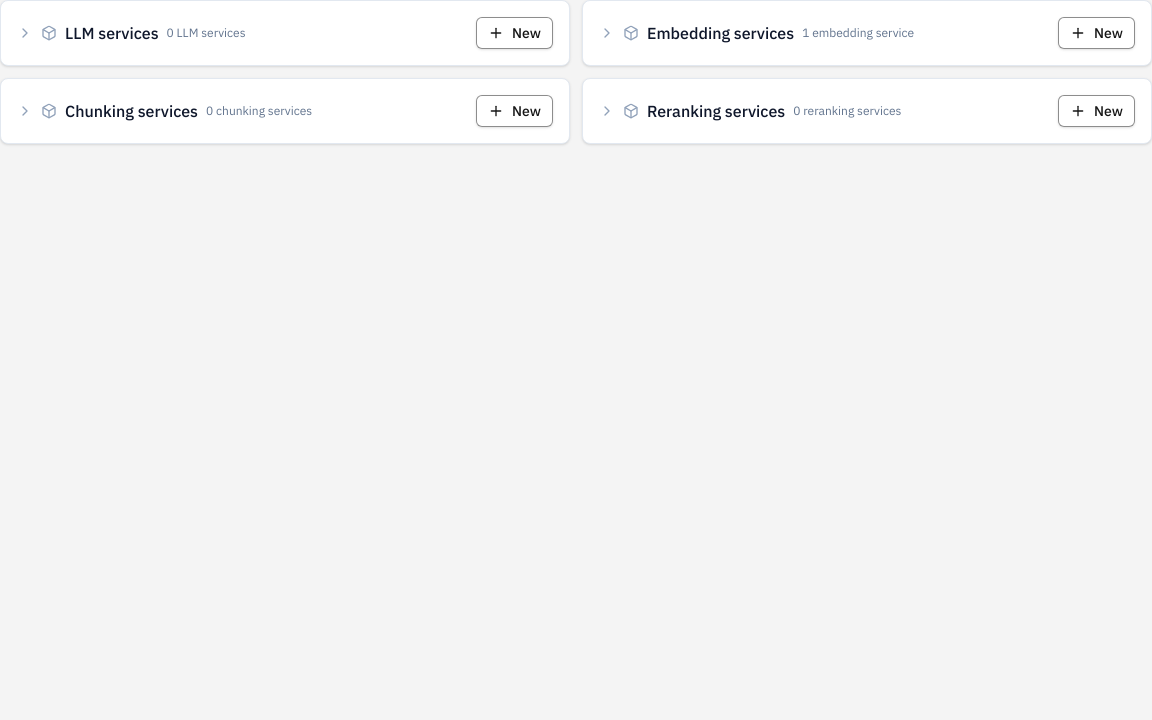
it: ServicesPanel › opens the embedding edit dialog from a service row
Click the button named "Embedding services". click: [867, 33]
box: [583,1,1151,65]
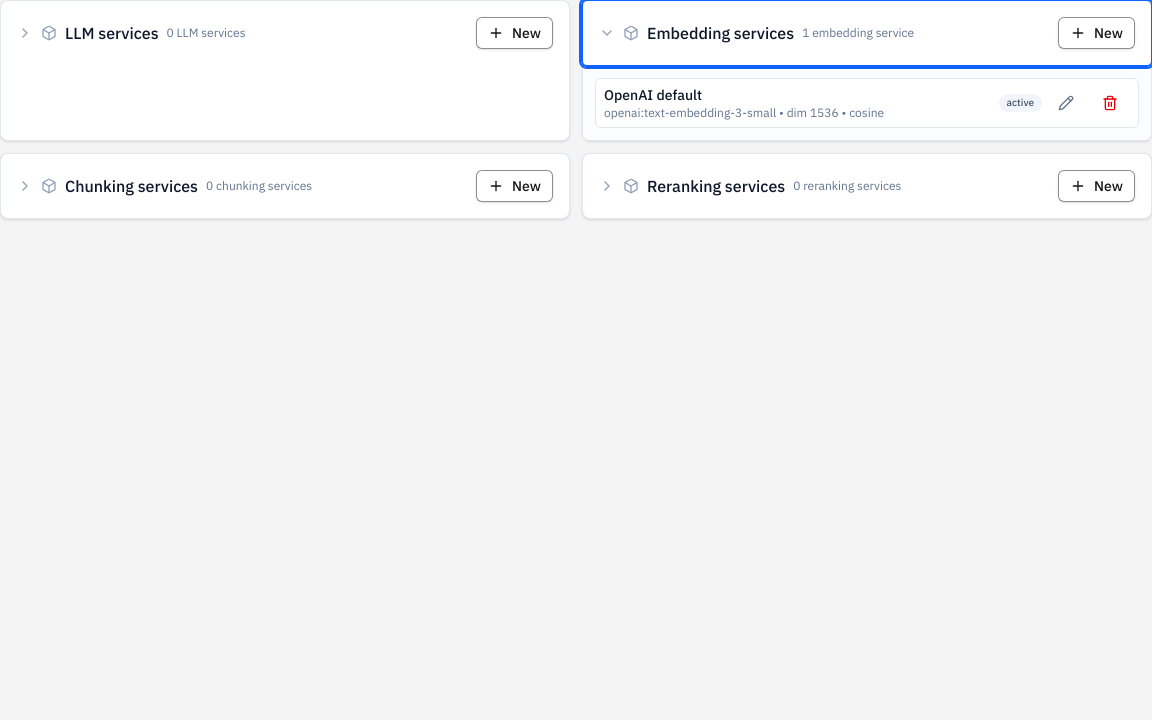
Click the button named "Edit OpenAI default". click: [1066, 103]
box: [1046,87,1086,119]
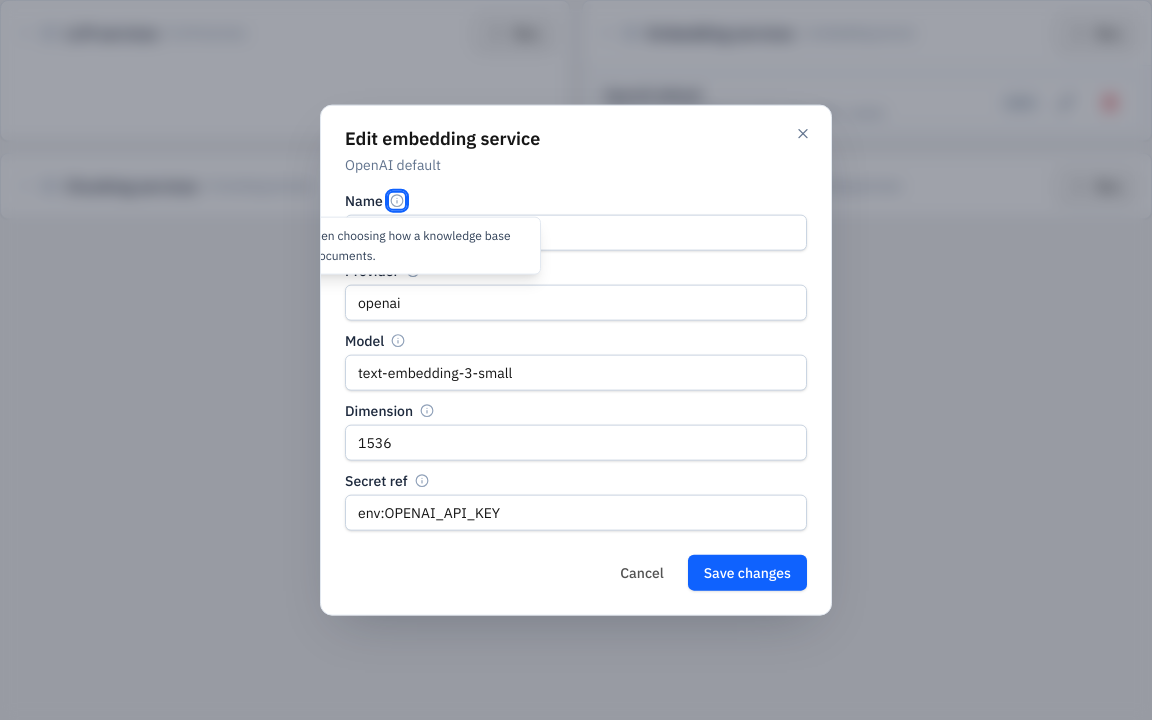
expect the heading "Edit embedding service" is shown: met, box [345,127,540,150]
expect the field showing "OpenAI default" is shown: met, box [345,214,807,250]
